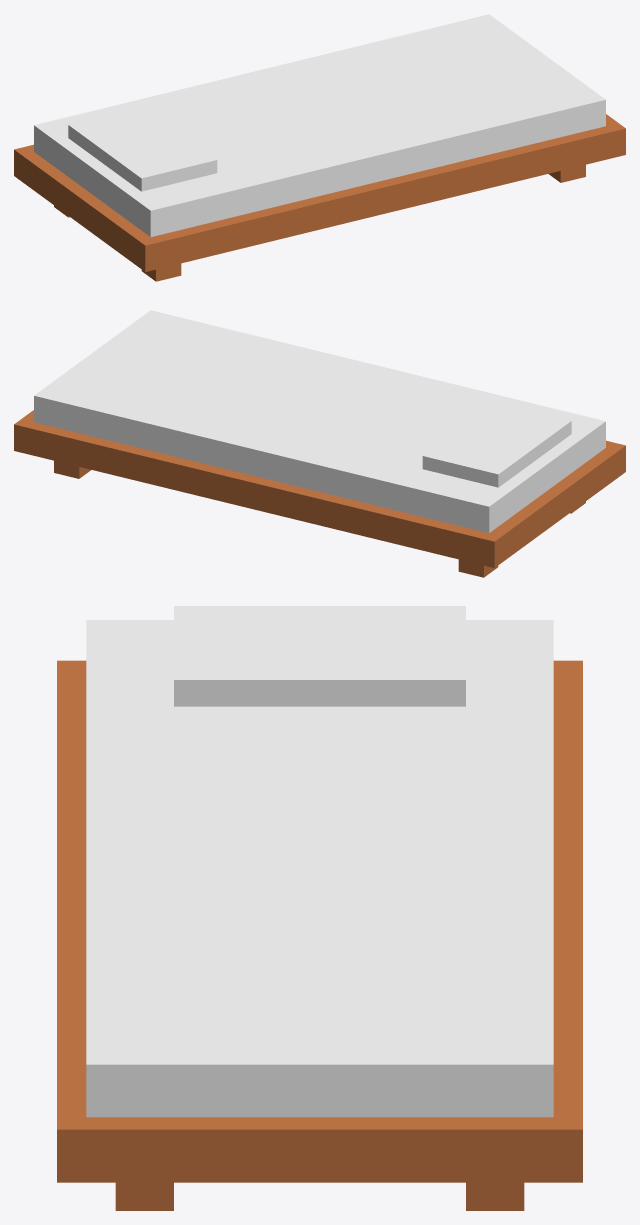
The model's file is bed_1.DMfQY-Ix.glb.
The picture shows the model from 3 angles, top to bottom: view 1: azimuth 30°, elevation 25°; view 2: azimuth 150°, elevation 25°; view 3: azimuth 270°, elevation 25°; orthographic projection. The views are drawn at different scales.
Parts seen in each view (by area): view 1: inner, outer, Würfel.004, Würfel.002, Würfel.001; view 2: inner, outer, Würfel.004, Würfel.003, Würfel; view 3: inner, outer, Würfel.004, Würfel, Würfel.001.
Boxes of the visible parts, x1,y1,x2,y2 form: inner: [34, 14, 605, 236]; outer: [14, 114, 625, 271]; Würfel.004: [68, 106, 217, 191]; Würfel.002: [141, 263, 181, 281]; Würfel.001: [548, 164, 585, 182]; inner: [34, 310, 605, 532]; outer: [14, 410, 625, 567]; Würfel.004: [422, 402, 571, 487]; Würfel.003: [458, 559, 498, 577]; Würfel: [54, 460, 91, 478]; inner: [86, 620, 553, 1117]; outer: [57, 660, 582, 1182]; Würfel.004: [174, 606, 465, 706]; Würfel: [466, 1182, 524, 1210]; Würfel.001: [115, 1182, 173, 1210].
Size of the model in its own units: 1.9 by 0.35 by 0.9.
